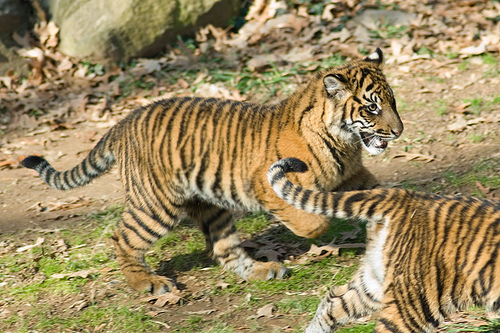Tigre: (65, 43, 413, 248)
